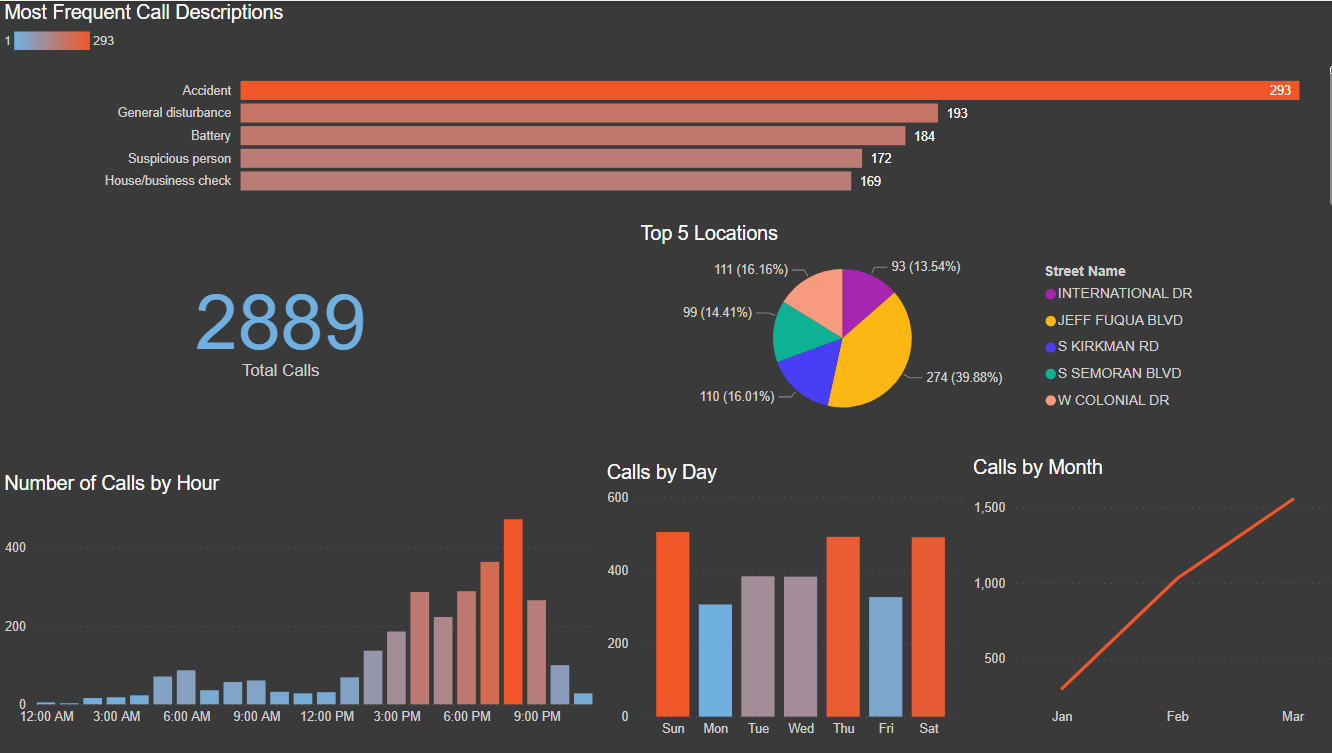

The page's visual inventory and layout, read from the dashboard file:
{"tool":"powerbi","page":{"name":"Page 1","canvas":[1280,720],"ordinal":0},"visuals":[{"type":"barChart","title":"Most Frequent Call Descriptions","fields":{"Category":["full - general descs USE.Description"],"Y":["CountNonNull(full - general descs USE.Location)"]},"box":[0,0,1280.5,199.9],"z":0},{"type":"columnChart","title":"Number of Calls by Hour","fields":{"Category":["full - general descs USE.Start of Hour"],"Y":["CountNonNull(full - general descs USE.Description)"]},"box":[0,448.7,584.3,248.7],"z":1000},{"type":"columnChart","fields":{"Category":["full - general descs USE.Day"],"Y":["CountNonNull(full - general descs USE.Description)"]},"box":[573.6,438,348.7,271.3],"z":2000},{"type":"lineChart","fields":{"Category":["full - general descs USE.Month"],"Y":["CountNonNull(full - general descs USE.Description)"]},"box":[922.3,433.2,358.2,264.2],"z":3000},{"type":"card","fields":{"Values":["CountNonNull(full - general descs USE.Date)"]},"box":[83.3,199.9,370.1,215.4],"z":4000},{"type":"pieChart","title":"Top 5 Locations","fields":{"Y":["Sum(Sheet1.# of Calls)"],"Series":["Sheet1.Street Name"]},"box":[605.7,210.1,545.2,200.5],"z":5000}]}

Visuals, with their boxes in screenshot pixels (x1, y1, x2, y2), scaled from the page's 1280x720 canvas onto the 1332x753 screenshot:
"Most Frequent Call Descriptions" barChart: locate(0, 0, 1331, 209)
"Number of Calls by Hour" columnChart: locate(0, 469, 608, 729)
columnChart - full - general descs USE.Day x CountNonNull(full - general descs USE.Description): locate(597, 458, 960, 742)
lineChart - full - general descs USE.Month x CountNonNull(full - general descs USE.Description): locate(960, 453, 1331, 729)
card - CountNonNull(full - general descs USE.Date): locate(87, 209, 472, 434)
"Top 5 Locations" pieChart: locate(630, 220, 1198, 429)
